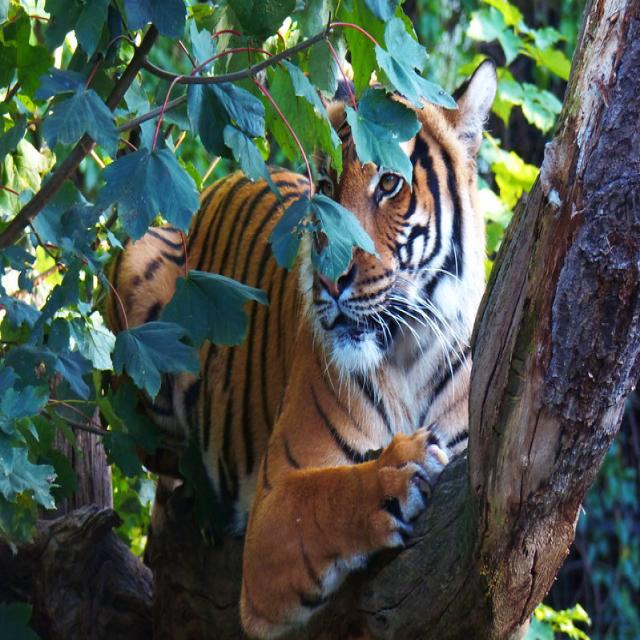Tiger: (82, 52, 499, 635)
